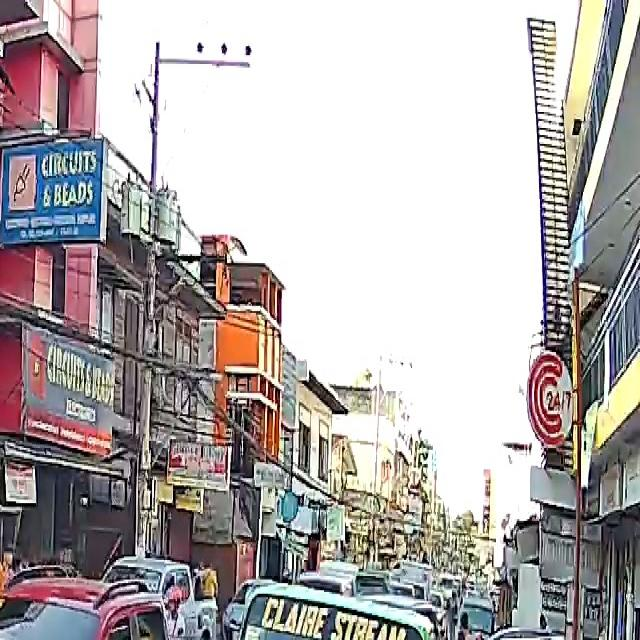car: (0, 570, 209, 640), (100, 555, 198, 631), (466, 615, 640, 640)
